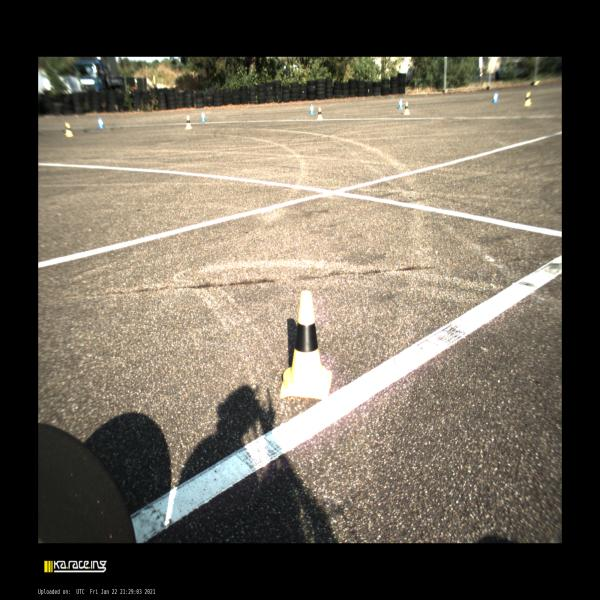blue_cone: (492, 92, 498, 103), (98, 118, 104, 128), (398, 98, 403, 109), (201, 110, 206, 121), (309, 104, 314, 114)
yellow_cone: (280, 291, 332, 399), (65, 122, 74, 136), (316, 107, 324, 120), (524, 92, 531, 106), (185, 115, 192, 129), (404, 102, 410, 114)
